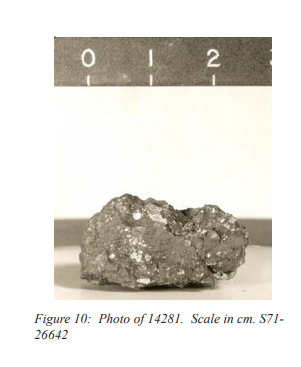Breccia: (70, 190, 270, 301)
